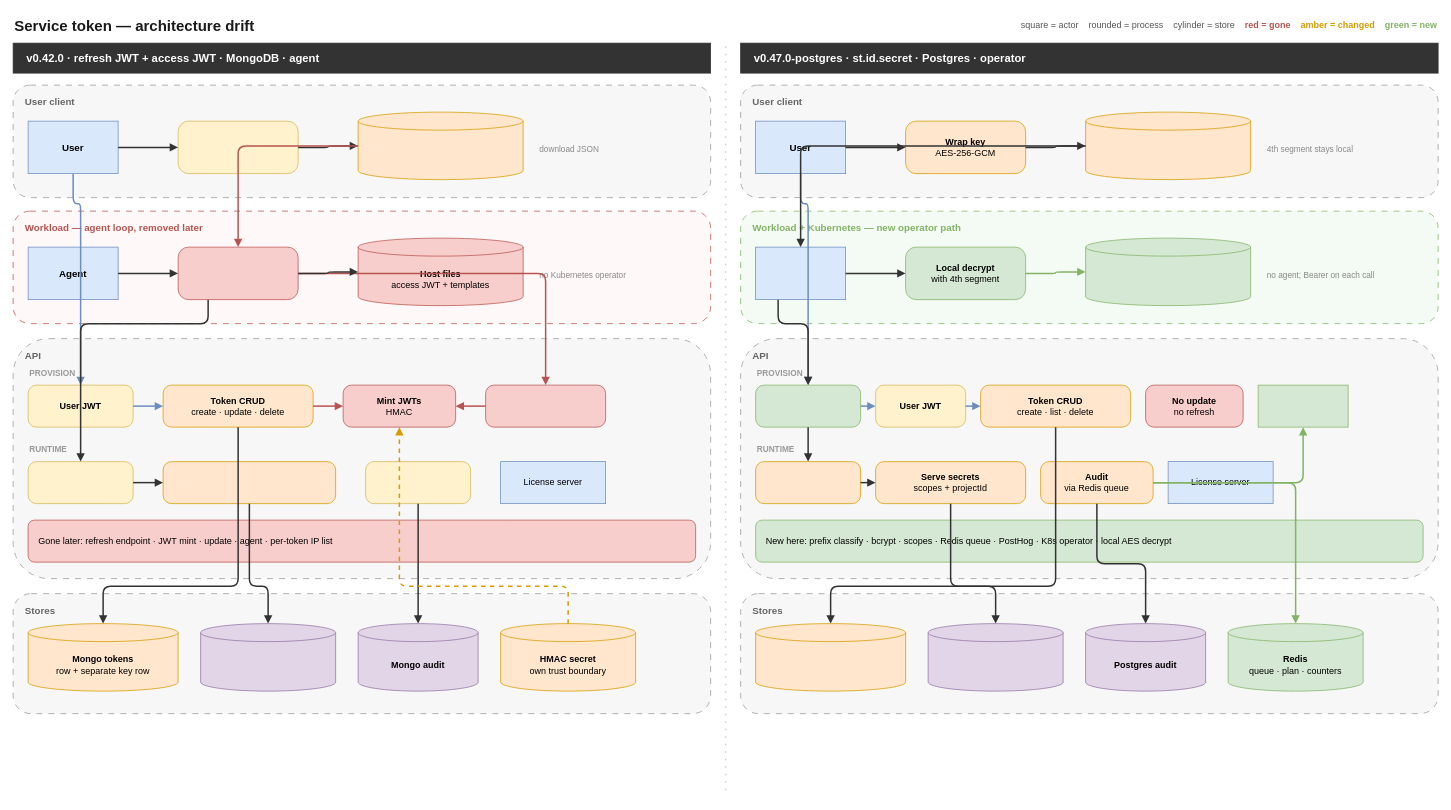
This 1451x810 diagram has some shape labels left out. Each missing label, with the centre of its shape:
"Access JWT" goes at [80,482].
"Audit write now" goes at [418,482].
"bcrypt token" goes at [808,482].
"Classify st. or JWT" goes at [808,405].
"Credential file refresh JWT + keypair" goes at [440,145].
"Four-part token st.id.secret.aes-key" goes at [1168,145].
"K8s Secrets token in · plaintext out" goes at [1168,271].
"Mongo secrets + project bot" goes at [268,657].
"Postgres secrets + project bot" goes at [995,657].
"Postgres tokens hash + key on one row" goes at [830,657].
"PostHog" goes at [1302,405].
"Refresh loop POST /me/token" goes at [237,273].
"Refresh no login required" goes at [545,405].
"Serve secrets project role + IP allowlist" goes at [249,482].
"Workload" goes at [800,273].
"Wrap key NaCl box" goes at [237,147].
